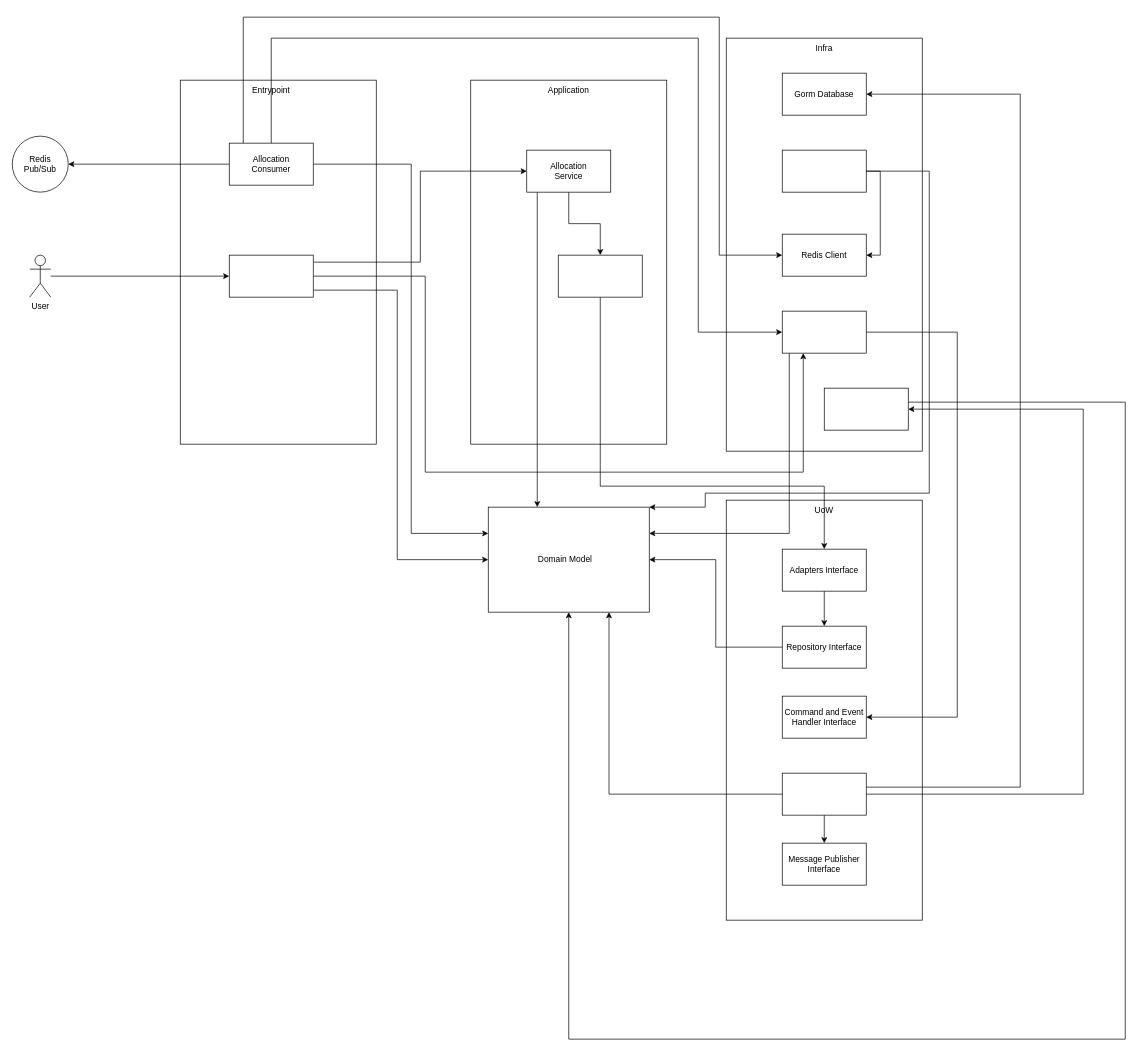
Some shapes in this 1143 by 1057 pixel diagram are drawn without their labels. The shapes that lost their labels are listed below. From the top down, each one's box as (x1, y1, x2, y2) in pixels, then its label:
(782, 149, 866, 192): External Message Publisher
(229, 254, 313, 297): Allocation HTTP Handler
(558, 254, 642, 297): UoW Interface
(782, 310, 866, 353): Internal Message Publisher
(824, 387, 908, 430): Allocation Repository
(782, 772, 866, 815): Allocation UoW
